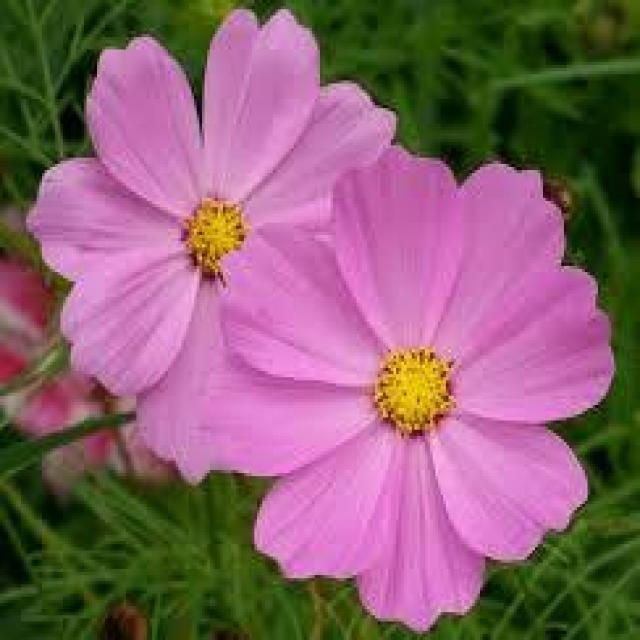organic waste: (221, 153, 608, 632), (34, 11, 401, 462)
